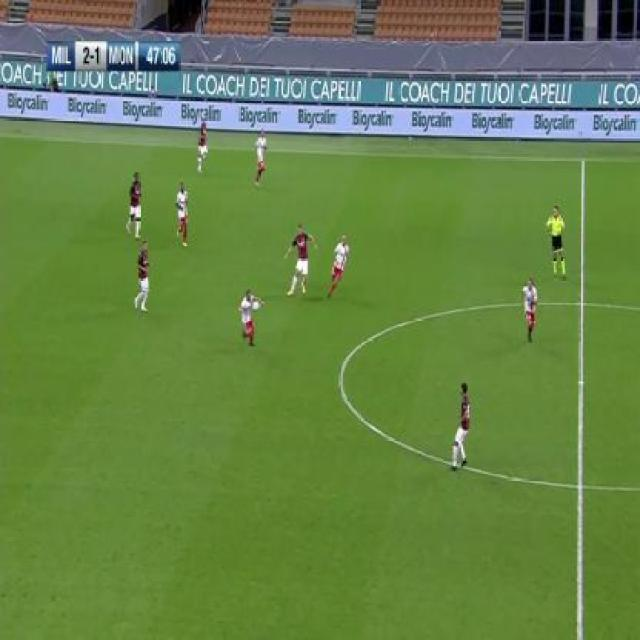ball: (252, 301, 260, 314)
player: (284, 219, 318, 299), (450, 381, 473, 474), (325, 232, 350, 300), (548, 203, 570, 279), (239, 285, 264, 348), (133, 239, 153, 315), (125, 172, 144, 241), (523, 276, 540, 345), (175, 179, 191, 250), (252, 127, 269, 189), (196, 117, 210, 177)
